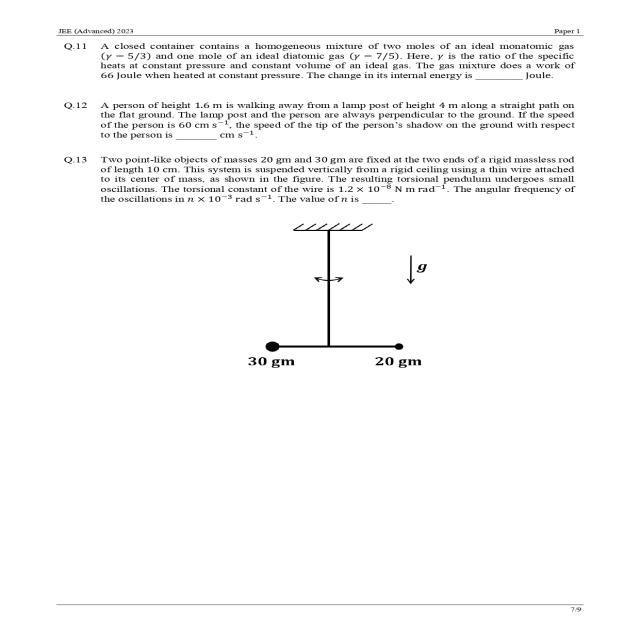Question_Answer_Block: (51, 150, 609, 394), (51, 93, 609, 146), (51, 42, 609, 90)
Question_Block: (51, 150, 609, 394), (51, 93, 609, 146), (51, 42, 609, 90)
Question_Paper_Area: (51, 42, 609, 536)
